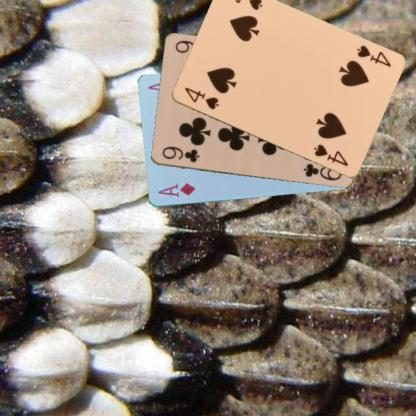4s: (182, 84, 220, 111), (354, 42, 392, 69)
9c: (159, 144, 200, 164)
Ad: (155, 181, 196, 199)
